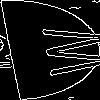W: (25, 25, 100, 77)
